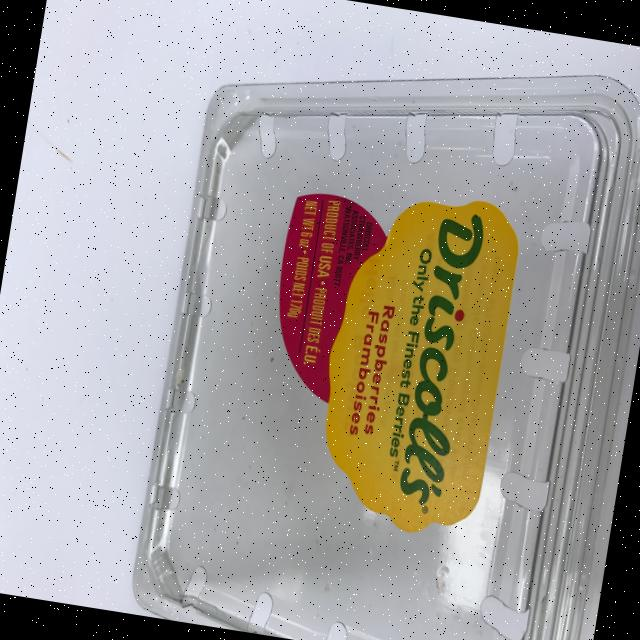plastic: (127, 27, 630, 640), (304, 180, 526, 542)
